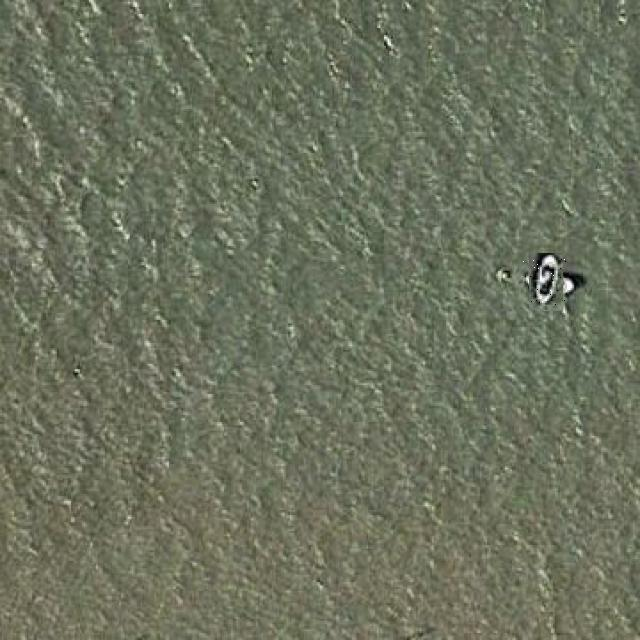boat: (523, 259, 570, 305)
